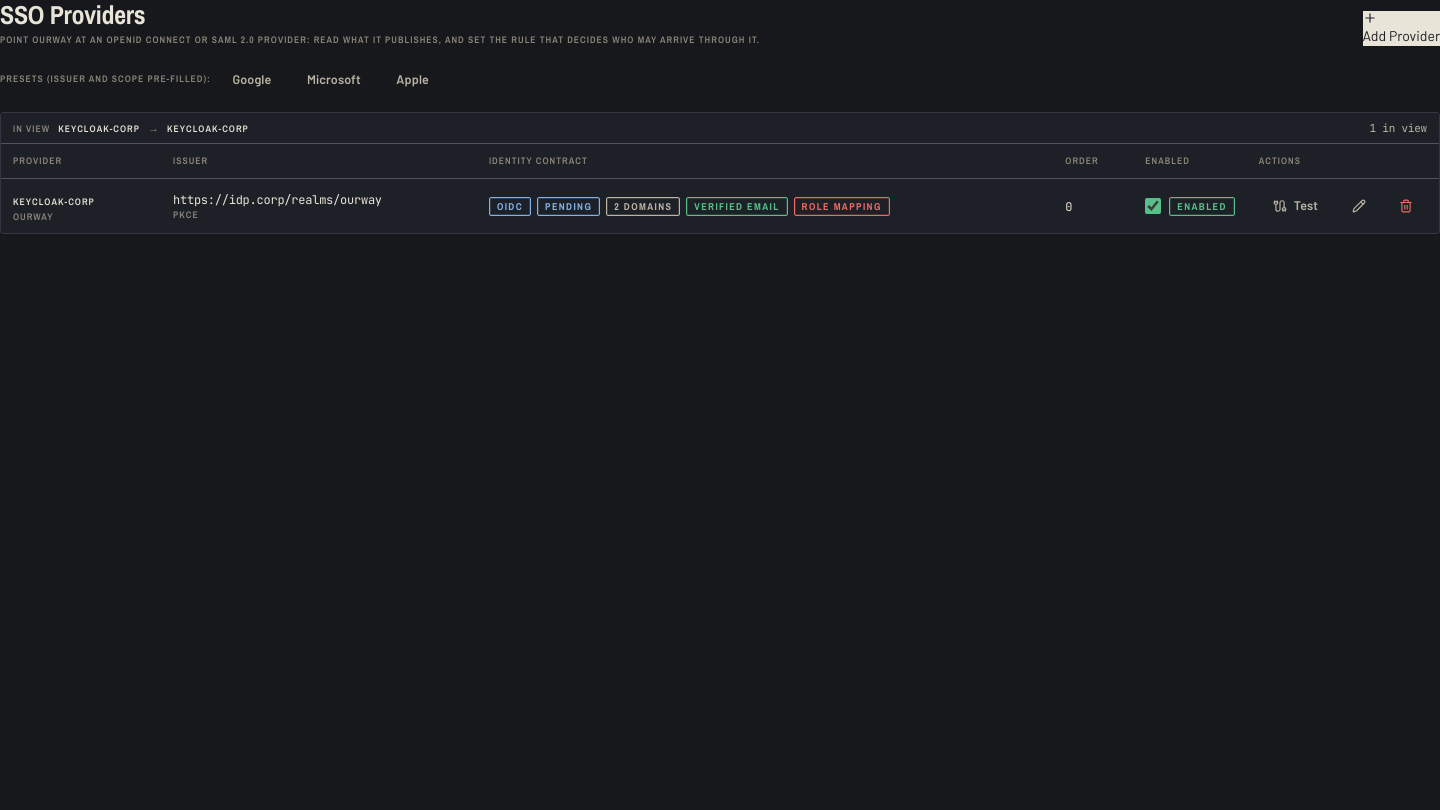
it: SSO provider ledger (2.4-4) › names a refused discovery by kind, and says nothing was saved
The image size is (1440, 810).
Click the button "Add Provider" at (1401, 28), box [1362, 10, 1439, 46]
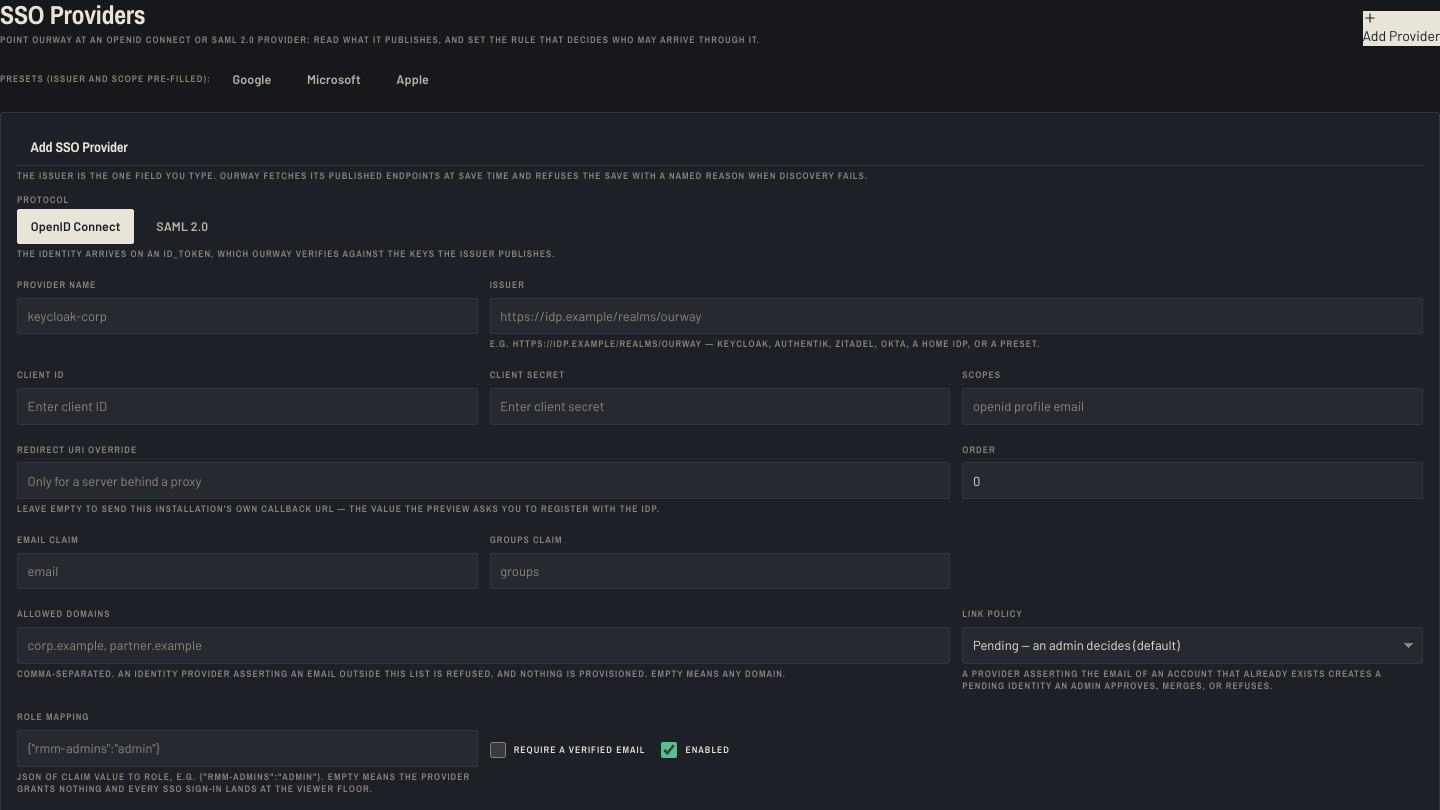
Type "https://idp.corp" into the field labelled "Issuer" at (956, 316), box [490, 298, 1423, 334]
(page scrolled)
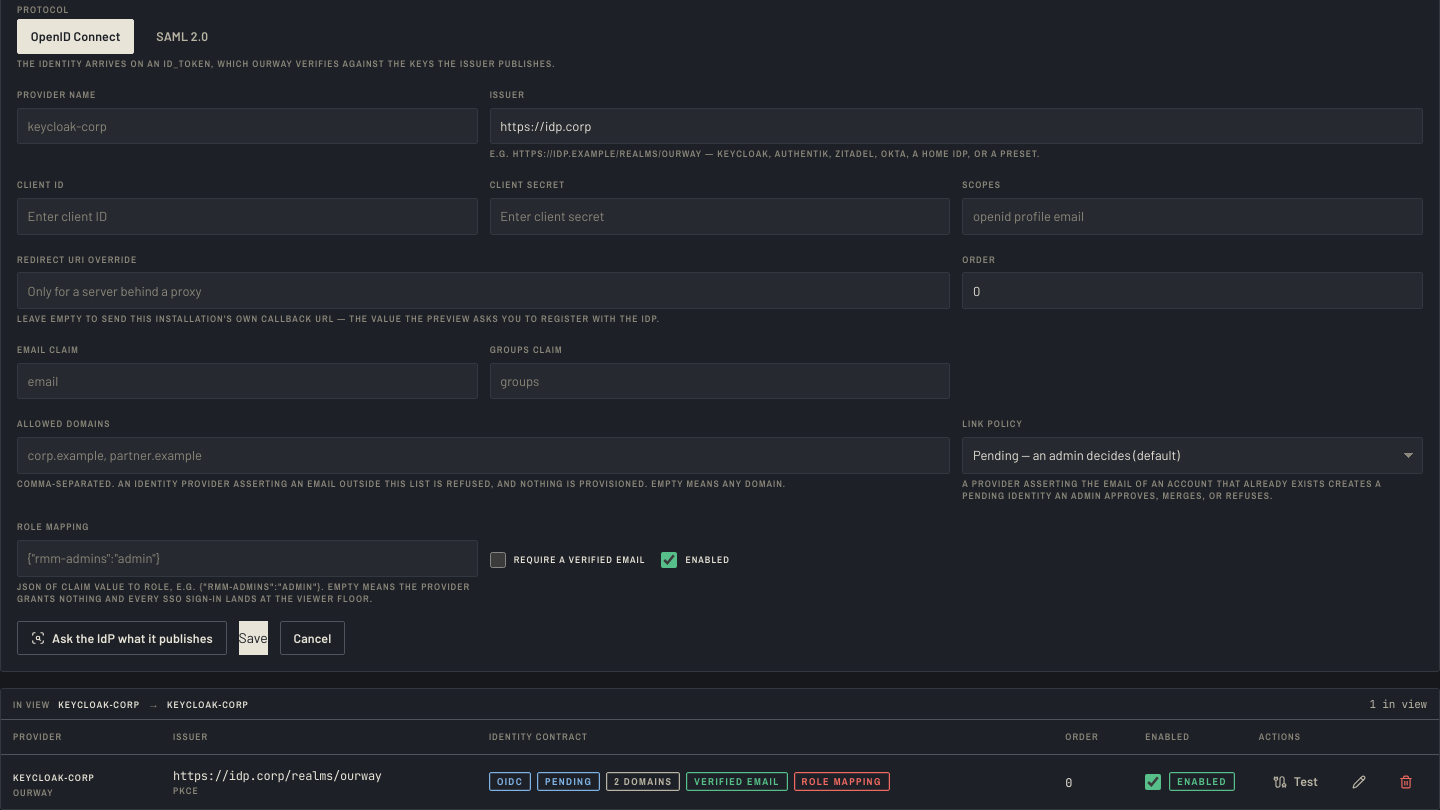
Click the button "Ask the IdP what it publishes" at (122, 638), box [17, 621, 227, 655]
(page scrolled)
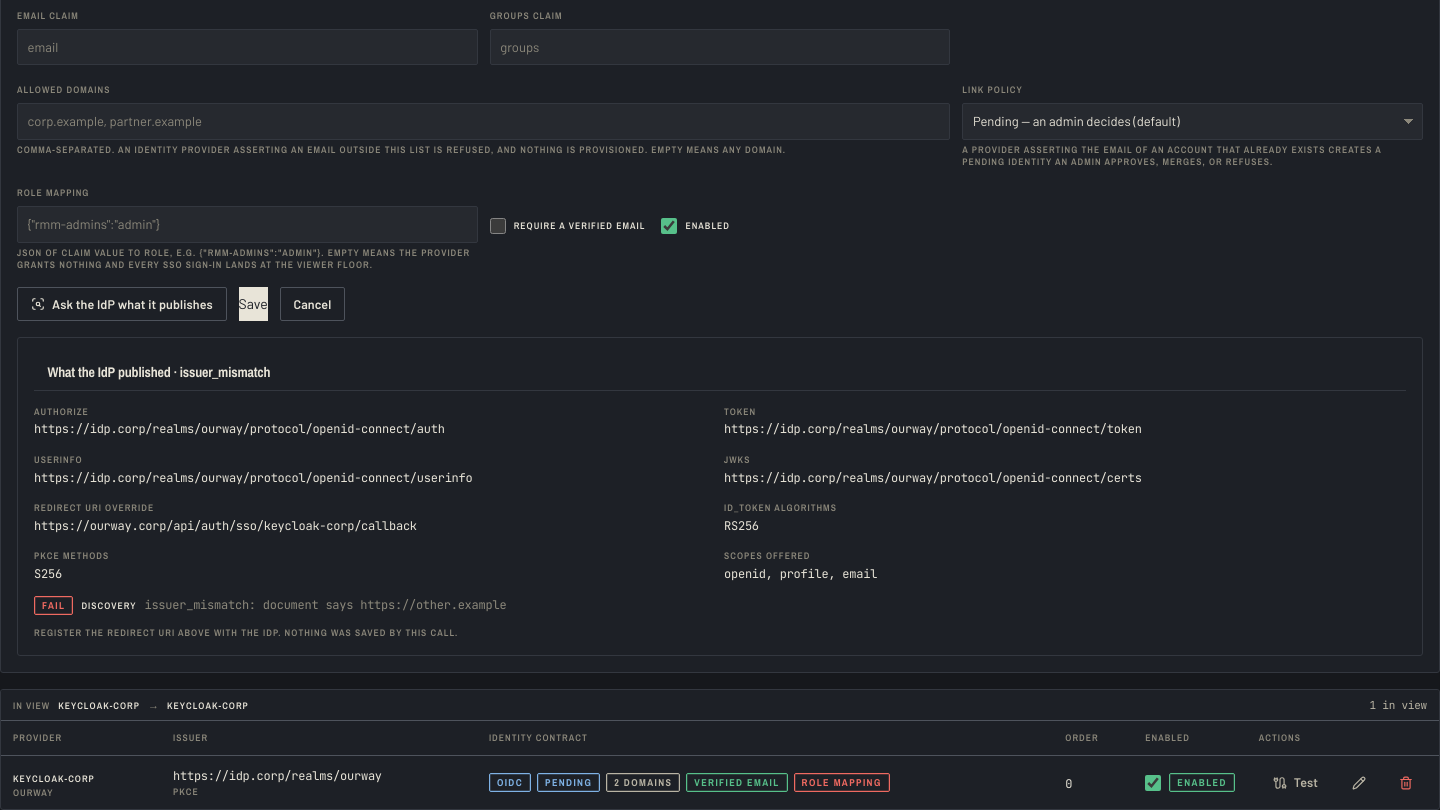
Expected: the message "What the IdP published" shows "issuer_mismatch", [180, 363, 270, 381]
